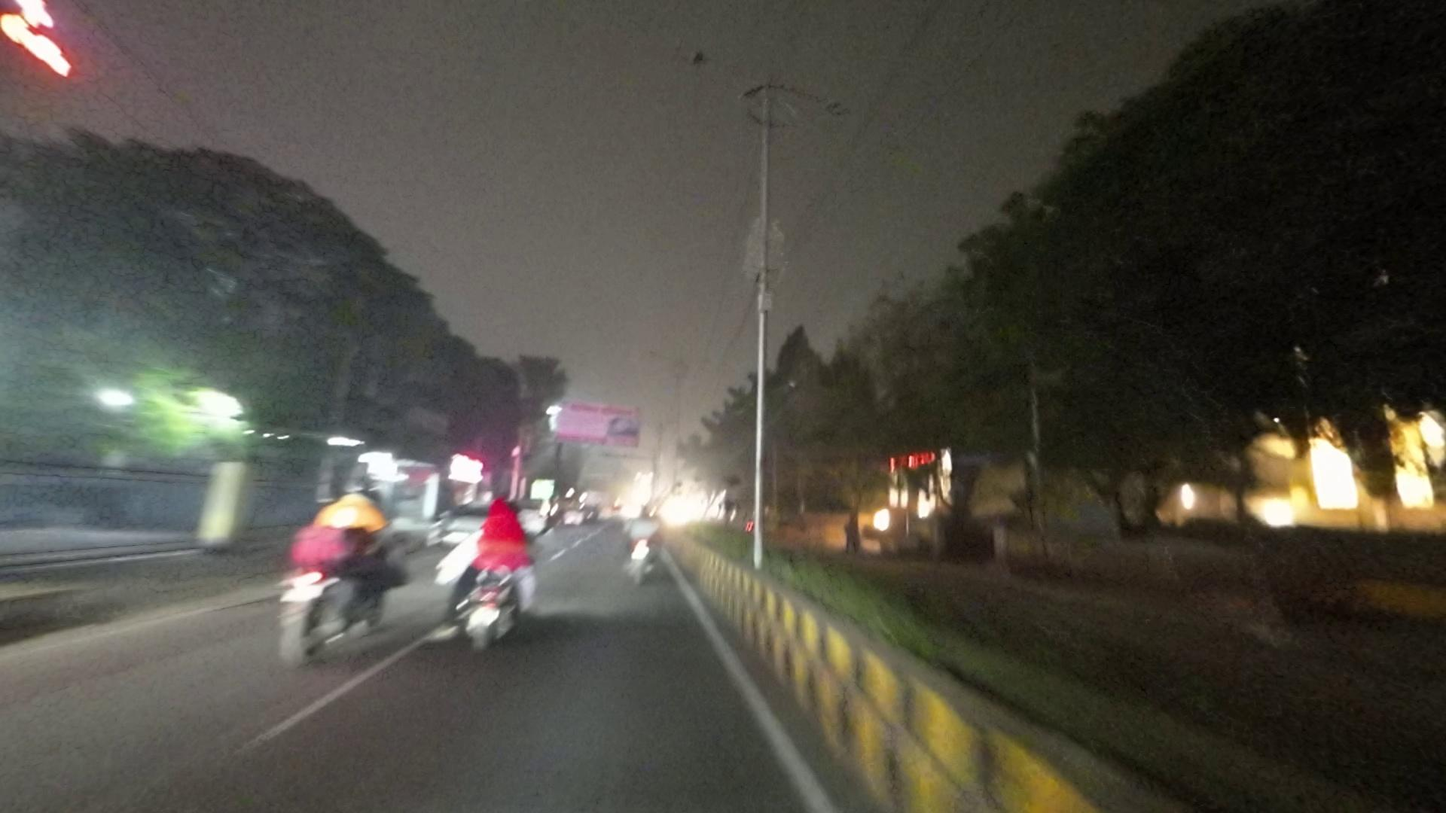streetlight: (689, 49, 762, 86), (800, 82, 858, 122)
